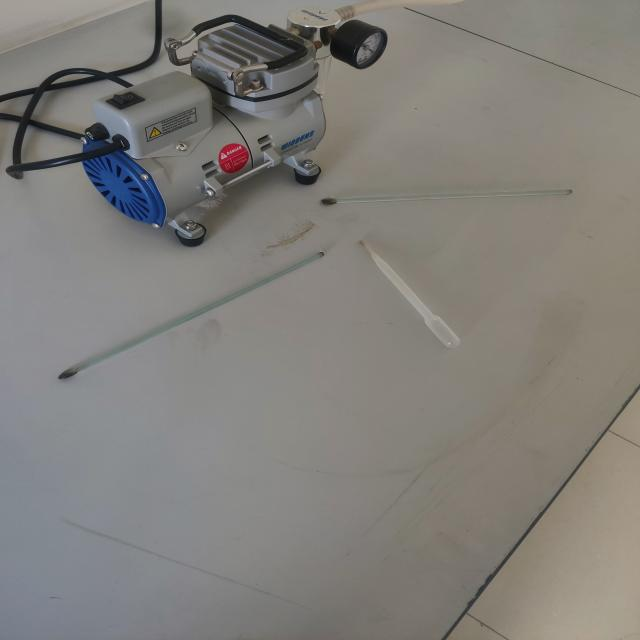Glass_Rod: (38, 240, 342, 394), (308, 172, 594, 221)
Pipette: (354, 226, 480, 366)
